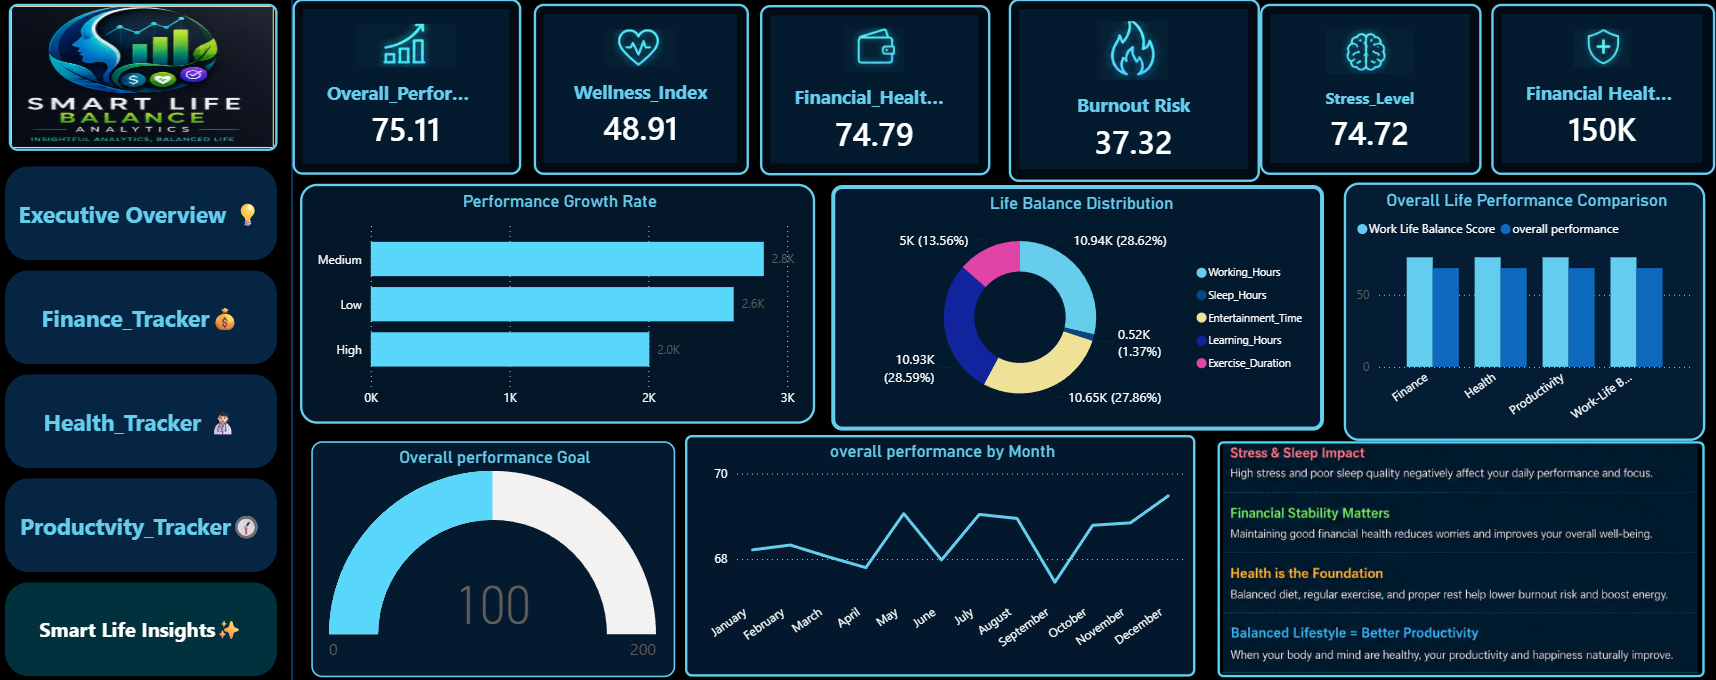

What the dashboard file says about the page in this screenshot:
{"tool":"powerbi","page":{"name":"Smart Life Insights✨","canvas":[1730,700],"ordinal":4},"visuals":[{"type":"shape","box":[0,0,297.5,796.2],"z":0},{"type":"pageNavigator","box":[10,171.2,272.5,511.2],"z":1000},{"type":"image","box":[13.8,8.8,268.8,147.5],"z":2000},{"type":"lineChart","fields":{"Category":["master_tracker.Date.Variation.Date Hierarchy.Month"],"Y":["measures table.overall performance"]},"box":[701.2,436.2,626.2,246.2],"z":3000},{"type":"donutChart","title":"LIFE BALANCE DISTRIBUTION","fields":{"Y":["Sum(user_tracker.Working_Hours)","Sum(health_tracker.Sleep_Hours)","Sum(master_tracker.Entertainment_Time)","Sum(user_tracker.Learning_Hours)","Sum(health_tracker.Exercise_Duration)"]},"box":[832.5,180,495,226.2],"z":4000},{"type":"barChart","title":"Performance Growth Rate","fields":{"Category":["health_tracker.Health_Risk_status"],"Y":["Sum(master_tracker.Health_Risk_Level)"]},"box":[305,188.8,515,240],"z":5000},{"type":"cardVisual","fields":{"Data":["measures table.Burnout Risk"]},"box":[1013.8,3.8,241.2,185],"z":6000},{"type":"gauge","title":" Overall performance Goal","fields":{"Y":["Max(master_tracker.Overall_Performance_Level)"]},"box":[316.2,446.2,363.8,236.2],"z":7000},{"type":"clusteredColumnChart","title":"Overall Life Performance Comparison","fields":{"Category":["Performance Category.Category"],"Y":["measures table.Work Life Balance Score","measures table.overall performance"]},"box":[1346.2,188.8,383.8,493.8],"z":8000},{"type":"cardVisual","fields":{"Data":["Avg(master_tracker.Wellness_Index)"]},"box":[538.8,8.8,215,171.2],"z":9000},{"type":"cardVisual","fields":{"Data":["Avg(master_tracker.Overall_Performance_Level)"]},"box":[297.5,3.8,228.8,176.2],"z":10000},{"type":"cardVisual","fields":{"Data":["Avg(health_tracker.Stress_Level)"]},"box":[1265,8.8,221.2,171.2],"z":11000},{"type":"cardVisual","fields":{"Data":["Sum(finance_tracker.Financial Health Score)"]},"box":[1496.2,8.8,223.8,171.2],"z":12000},{"type":"cardVisual","fields":{"Data":["Avg(master_tracker.Financial_Health_Score)"]},"box":[765,10,230,170],"z":13000}]}

Visuals, with their boxes in screenshot pixels (x1, y1, x2, y2), scaled from the page's 1730x700 canvas onto the 1716x680 screenshot:
shape: region(0, 0, 295, 679)
pageNavigator: region(10, 166, 280, 663)
image: region(14, 9, 280, 152)
lineChart - master_tracker.Date.Variation.Date Hierarchy.Month x measures table.overall performance: region(696, 424, 1317, 663)
"LIFE BALANCE DISTRIBUTION" donutChart: region(826, 175, 1317, 395)
"Performance Growth Rate" barChart: region(303, 183, 813, 417)
cardVisual - measures table.Burnout Risk: region(1006, 4, 1245, 183)
" Overall performance Goal" gauge: region(314, 433, 674, 663)
"Overall Life Performance Comparison" clusteredColumnChart: region(1335, 183, 1715, 663)
cardVisual - Avg(master_tracker.Wellness_Index): region(534, 9, 748, 175)
cardVisual - Avg(master_tracker.Overall_Performance_Level): region(295, 4, 522, 175)
cardVisual - Avg(health_tracker.Stress_Level): region(1255, 9, 1474, 175)
cardVisual - Sum(finance_tracker.Financial Health Score): region(1484, 9, 1706, 175)
cardVisual - Avg(master_tracker.Financial_Health_Score): region(759, 10, 987, 175)
